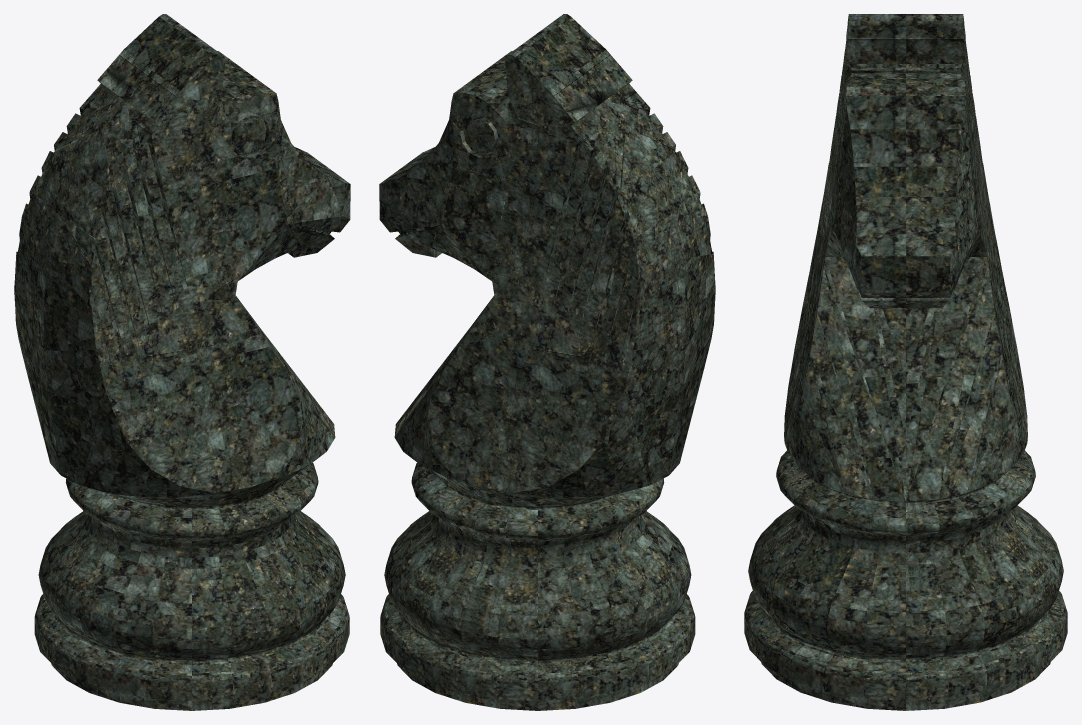
The model's file is black_knight.fbx.
The picture shows the model from 3 angles, left to right: view 1: azimuth 30°, elevation 25°; view 2: azimuth 150°, elevation 25°; view 3: azimuth 270°, elevation 25°; orthographic projection. The views are drawn at different scales.
Parts seen in each view (by area): view 1: Model; view 2: Model; view 3: Model.
Boxes of the visible parts, x1,y1,x2,y2 form: Model: (14,14,350,710); Model: (379,14,715,710); Model: (744,14,1067,710).
Size of the model in its own units: 12.82 by 26.45 by 12.26.
Materials: 1 (1 with a texture image).
